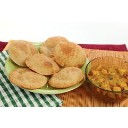poori: (8, 67, 47, 90), (55, 41, 86, 68), (8, 37, 35, 68), (47, 66, 84, 88), (26, 53, 59, 75), (39, 35, 69, 57)
